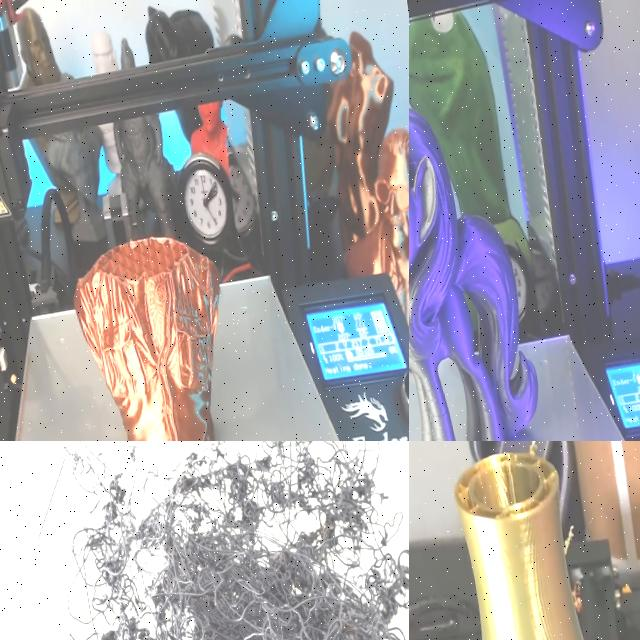spaghetti: (61, 441, 409, 640), (523, 441, 545, 457)
